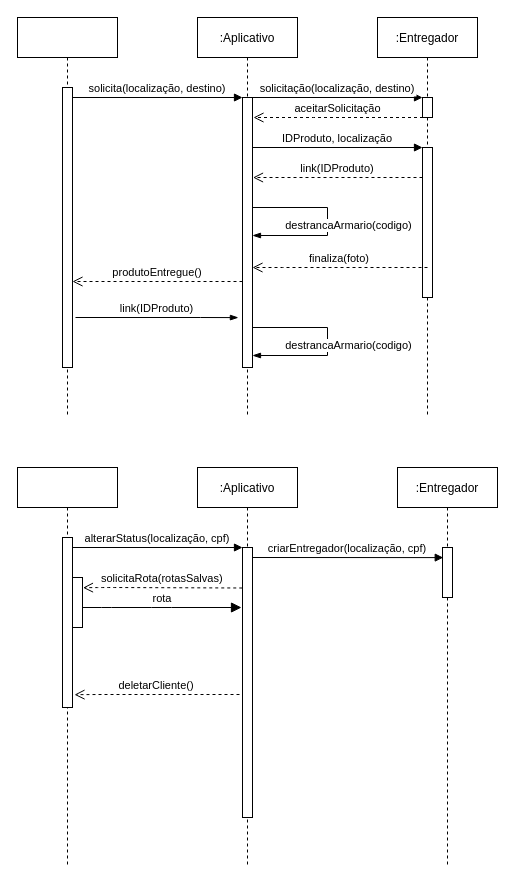
This 515x885 diagram has some shape labels left out. Each missing label, with the box of its shape:
:Cliente: (16, 16, 118, 418)
:Usuário: (16, 466, 118, 868)
